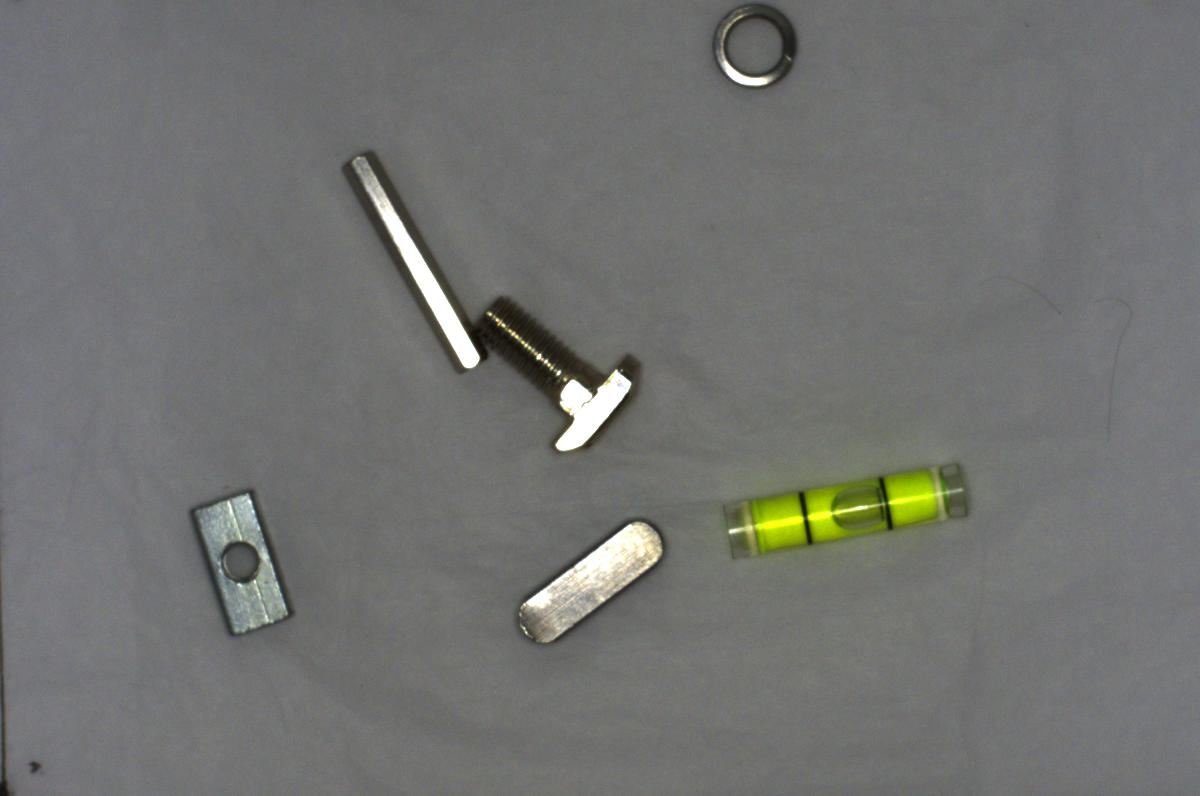Double hexagonal column: (340, 143, 485, 376)
Horizontal bubble: (710, 460, 977, 562)
Keybar: (506, 507, 670, 646)
Rectangular nut: (191, 486, 294, 642)
Spring washer: (706, 3, 804, 95)
T-shaped screw: (472, 290, 645, 458)
